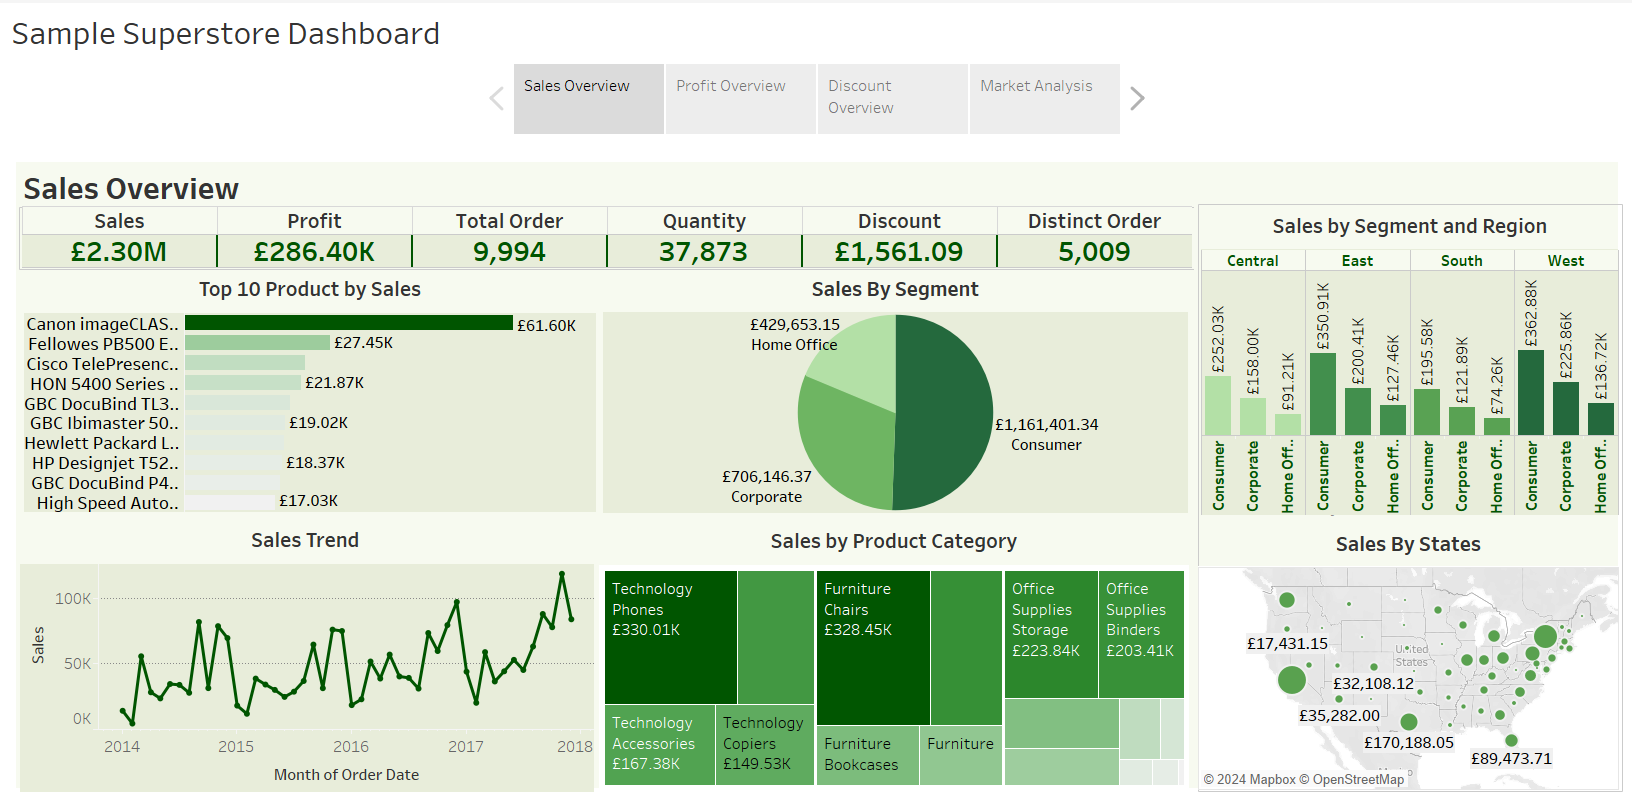

What the dashboard file says about the page in this screenshot:
{"tool":"tableau","page":{"name":"Sales Overview","canvas":[1000,1000],"units":"permille","ordinal":3},"visuals":[{"type":"title","box":[4.2,8.8,991.7,54.2]},{"type":"worksheet","title":"KPI","mark":"Automatic","box":[8.4,81.2,723.6,96.1]},{"type":"worksheet","title":"Sales by Segment and Region","mark":"Automatic","rows":["Sales"],"cols":["Region","Segment"],"box":[737.5,82.4,258.3,480.7]},{"type":"worksheet","title":"Top 10 Product by Sales","mark":"Automatic","rows":["Product Name"],"cols":["Sales"],"box":[9.7,181,353.7,377]},{"type":"worksheet","title":"Sales By Segment","mark":"Pie","box":[367.5,181,361.5,378.3]},{"type":"worksheet","title":"Sales Trend ","mark":"Automatic","rows":["Sales"],"cols":["Order Date"],"box":[7.3,571.8,355.1,422]},{"type":"worksheet","title":"Sales by Product Category","mark":"Automatic","box":[365.1,573,364.5,419.5]},{"type":"worksheet","title":"Sales By States","mark":"Automatic","box":[735.6,578,260.1,413.2]}]}

Visuals, with their boxes on the dashboard's canvas, which has no fixed pixel size, in thousandths of its width and height (x1, y1, x2, y2). These are canvas units, not pixel positions in the 1632x797 screenshot, which may show the page scaled, cropped or inside an application window:
title: [4,9,996,63]
"KPI" worksheet: [8,81,732,177]
"Sales by Segment and Region" worksheet: [738,82,996,563]
"Top 10 Product by Sales" worksheet: [10,181,363,558]
"Sales By Segment" worksheet (Pie marks): [368,181,729,559]
"Sales Trend " worksheet: [7,572,362,994]
"Sales by Product Category" worksheet: [365,573,730,992]
"Sales By States" worksheet: [736,578,996,991]
